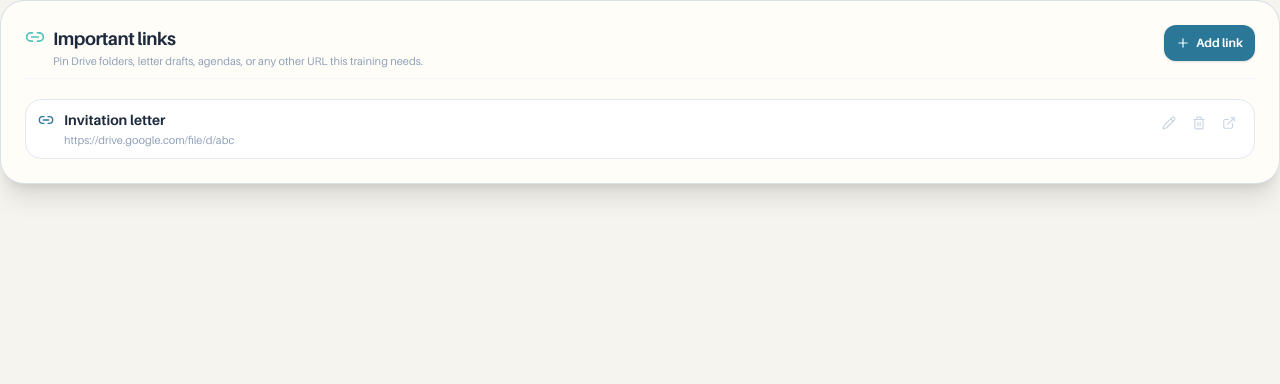
Test: TrainingPrepLinks › lists saved links and adds another
This screenshot has width=1280, height=384.
Expected: the text "Invitation letter" is shown, x1=64 y1=110 x2=165 y2=128
Expected: the text "https://drive.google.com/file/d/abc" is shown, x1=64 y1=132 x2=234 y2=146
Step 1. Click the button "Add link" → [1210, 43], box x1=1164 y1=25 x2=1255 y2=61
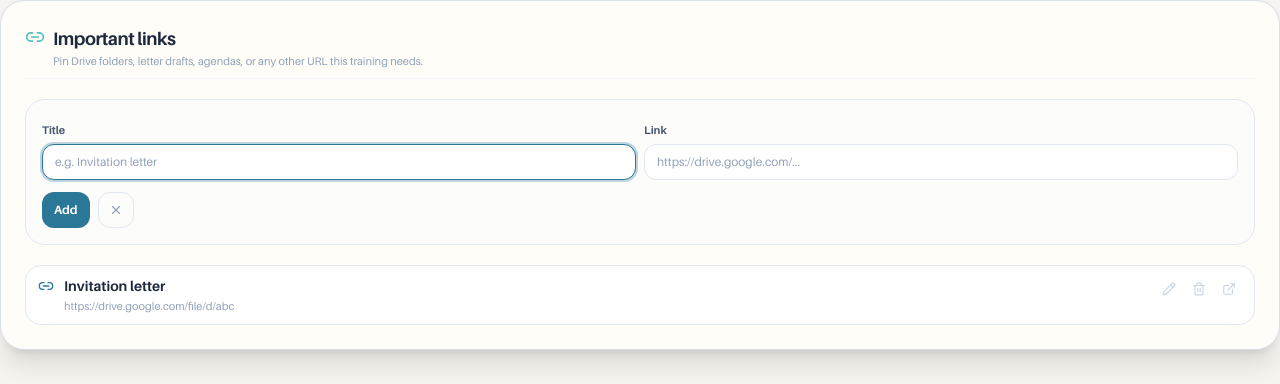
Step 2. Type "Shared folder" into the field labelled "Title" → [339, 162], box x1=42 y1=144 x2=636 y2=180
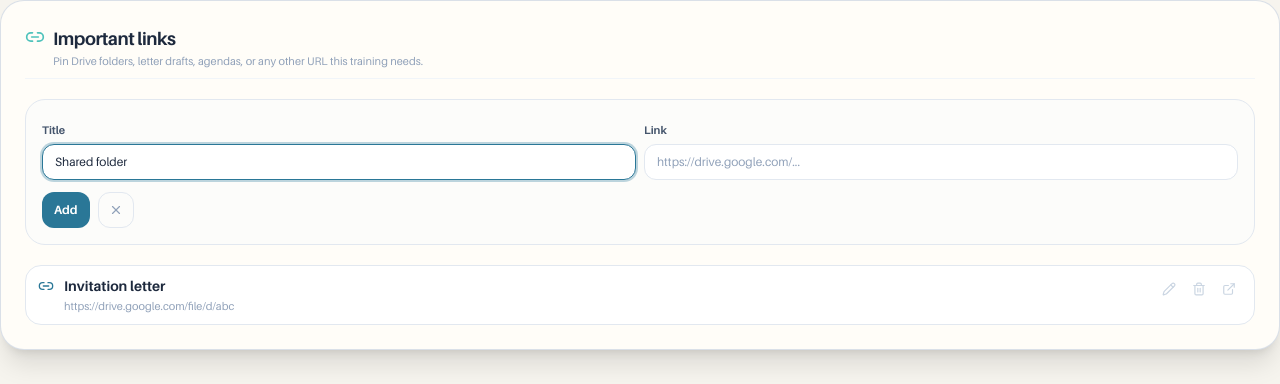
Step 3. Type "https://drive.google.com/drive/folders/xyz" into the field labelled "Link" → [941, 162], box x1=644 y1=144 x2=1238 y2=180
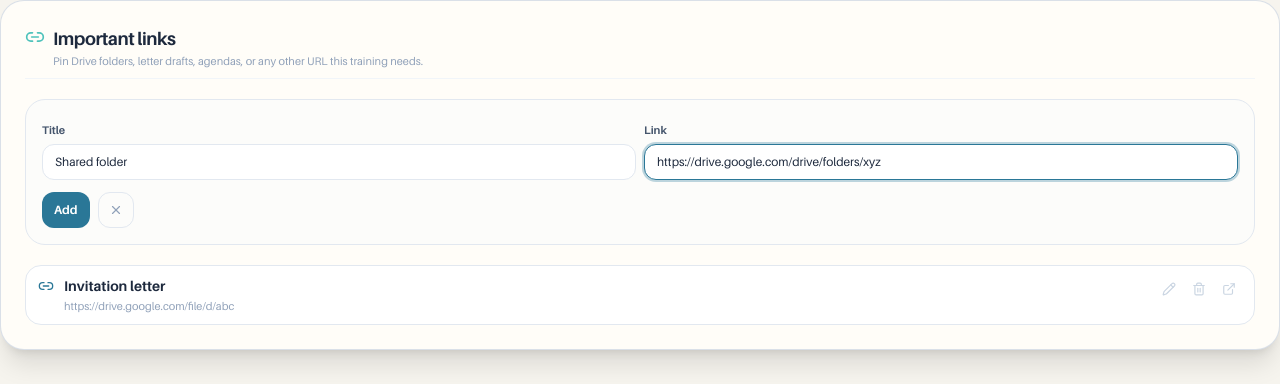
Step 4. Click the button "Add" → [66, 210], box x1=42 y1=192 x2=90 y2=228
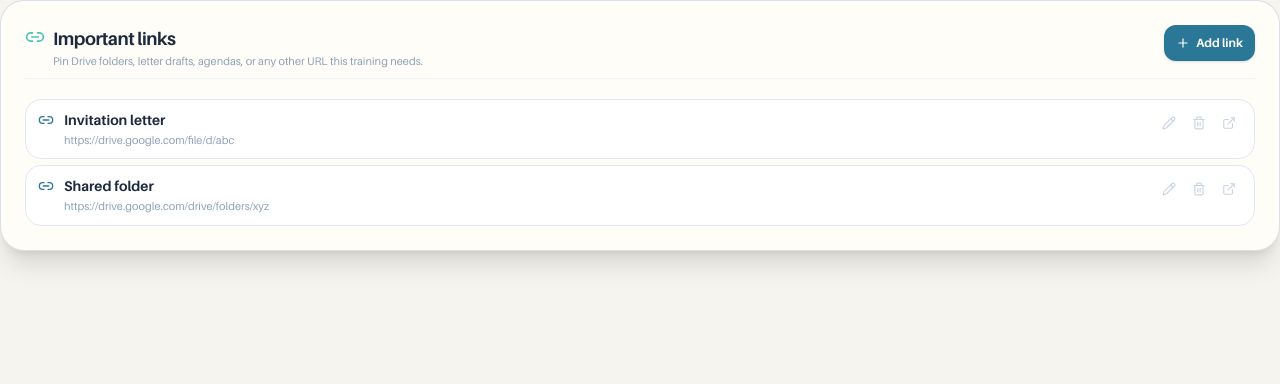
Expected: the text "Shared folder" is shown, x1=64 y1=177 x2=154 y2=194
